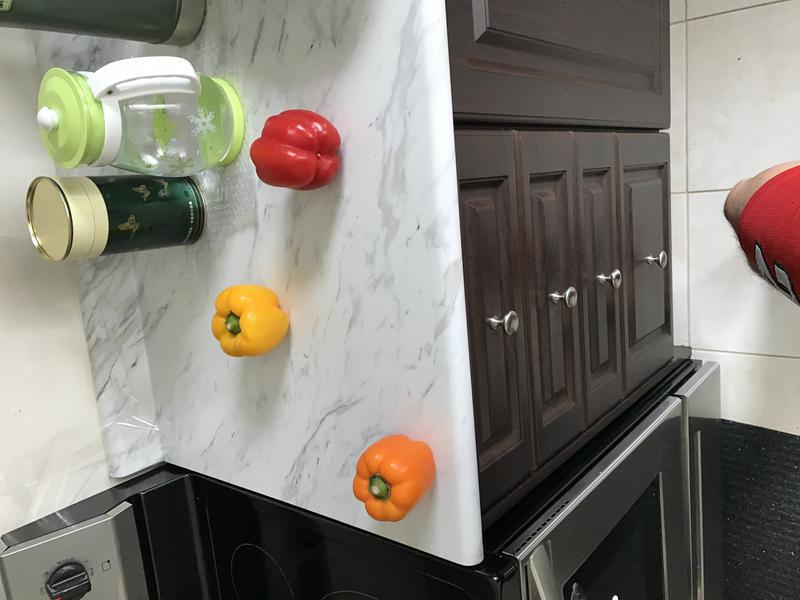orange_pepper: (351, 430, 443, 529)
red_pepper: (246, 103, 346, 194)
yellow_pepper: (205, 281, 295, 363)
